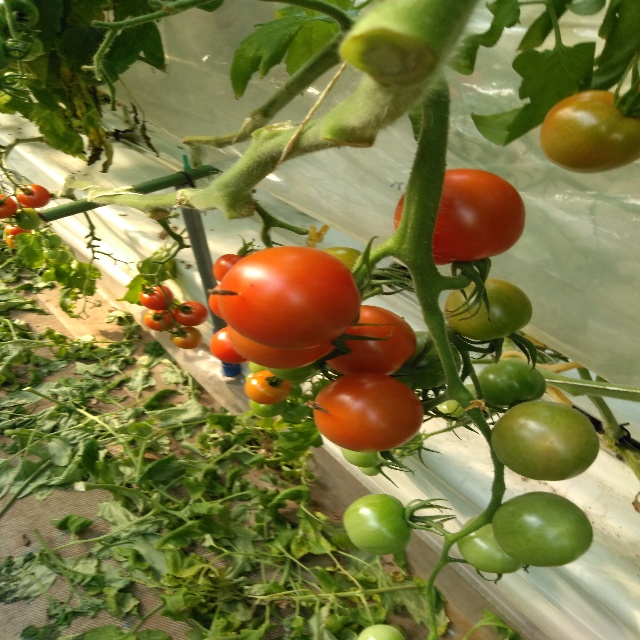l_fully_ripened: (217, 246, 360, 350), (394, 169, 526, 266), (313, 373, 425, 453), (324, 304, 417, 376), (228, 325, 332, 369), (210, 325, 249, 364), (138, 285, 173, 311), (173, 301, 208, 327), (18, 185, 50, 208), (0, 194, 18, 219)
l_green: (490, 400, 600, 481), (491, 491, 593, 567), (444, 278, 533, 342), (386, 331, 461, 390), (343, 493, 414, 555), (456, 513, 525, 574), (479, 358, 546, 408), (267, 356, 326, 382), (321, 247, 364, 273), (342, 448, 392, 468), (213, 254, 243, 282), (248, 398, 286, 418), (356, 625, 405, 640), (280, 398, 310, 422), (16, 207, 42, 230), (41, 233, 62, 249), (47, 250, 70, 264), (358, 466, 381, 476), (43, 248, 59, 260)
l_half_ripened: (541, 89, 640, 175), (245, 370, 291, 404), (144, 307, 179, 332), (171, 326, 203, 349)
